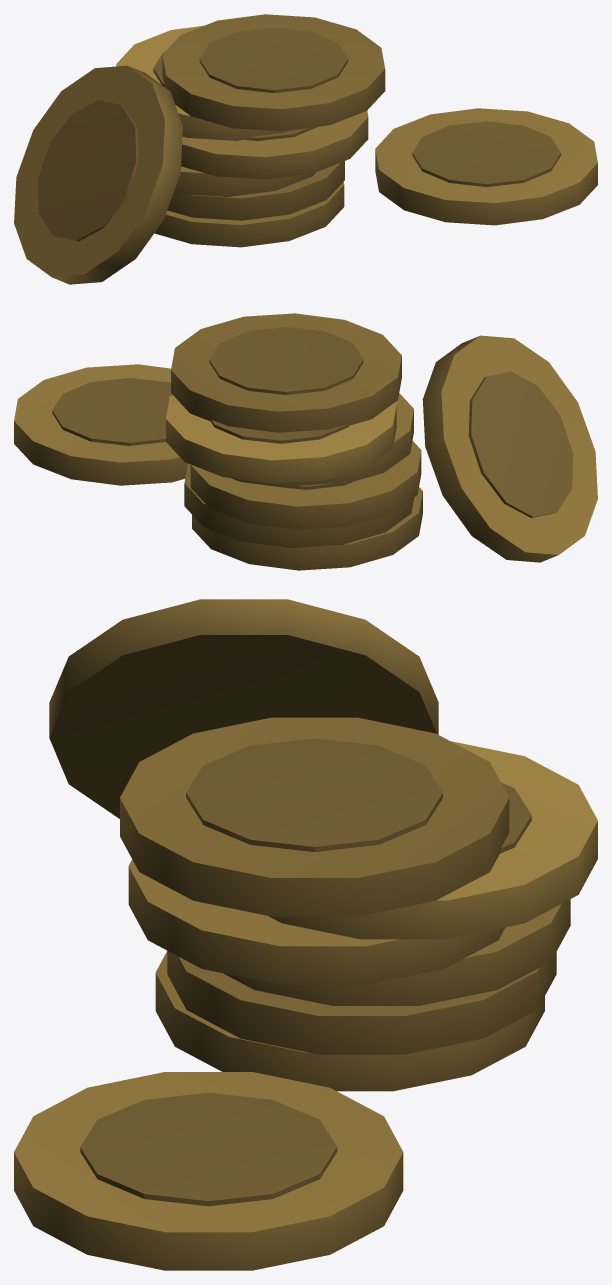
The model's file is ph_item_coin.glb.
The picture shows the model from 3 angles, top to bottom: view 1: azimuth 30°, elevation 25°; view 2: azimuth 150°, elevation 25°; view 3: azimuth 270°, elevation 25°; orthographic projection. The views are drawn at different scales.
Parts seen in each view (by area): view 1: ph_item_coin; view 2: ph_item_coin; view 3: ph_item_coin.
Boxes of the visible parts, bbox=[...] form: ph_item_coin: bbox=[14, 14, 597, 284]; ph_item_coin: bbox=[14, 313, 597, 570]; ph_item_coin: bbox=[14, 599, 597, 1270].
Bounding box in the file's own units: 0.3002 × 0.0973 × 0.165.
